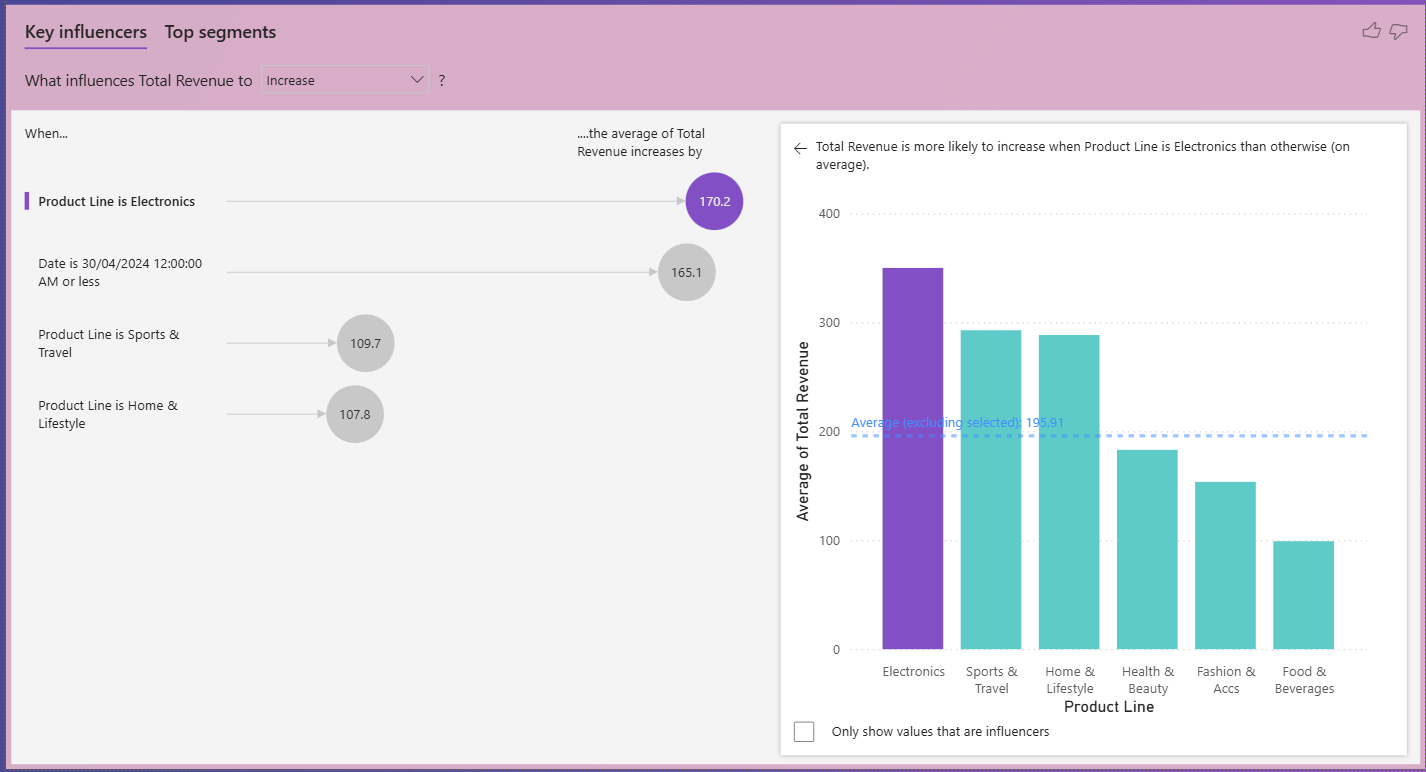

Layout of this report page (visuals, bound fields, positions):
{"tool":"powerbi","page":{"name":"Customer & Payment Analysis","canvas":[1280,720],"ordinal":2},"visuals":[{"type":"keyDriversVisual","fields":{"Target":["Fact_Sales.Total Revenue"],"ExplainBy":["Dim_Product.Product Line","Dim_Customer.Customer Type Gender","Dim_Branch.Branch","Dim_Date.Date","Dim_Payment.Payment Method"]},"box":[0,30.6,1280.3,689.7],"z":0}]}

Visuals, with their boxes on the page's 1280x720 design canvas (x1, y1, x2, y2). These are canvas units, not pixel positions in the 1426x772 screenshot, which may show the page scaled, cropped or inside an application window:
keyDriversVisual - Fact_Sales.Total Revenue x Dim_Product.Product Line: 0:31:1280:720
